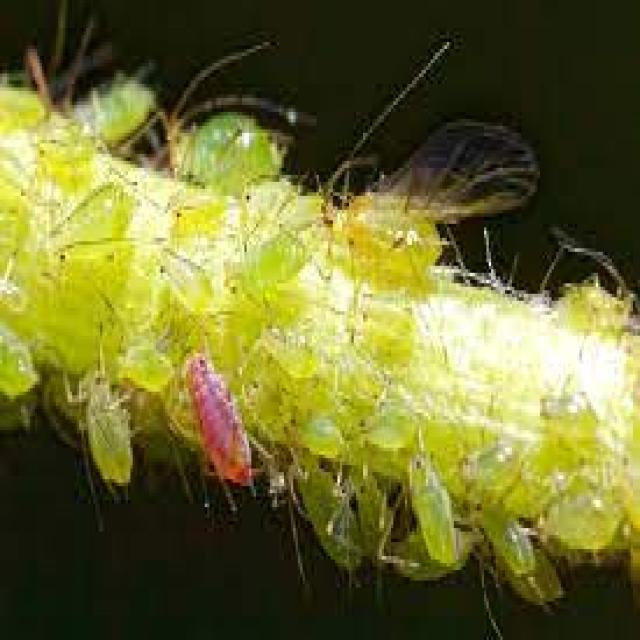Aphids: (164, 41, 314, 188), (38, 54, 169, 182), (60, 330, 143, 521), (336, 177, 456, 302), (182, 350, 267, 504), (526, 468, 626, 560), (292, 458, 364, 585), (472, 487, 548, 600), (407, 447, 462, 590), (31, 253, 133, 324), (252, 304, 322, 394), (47, 182, 144, 244), (229, 236, 316, 300), (503, 542, 571, 618), (145, 247, 216, 314), (530, 386, 604, 445), (118, 338, 176, 405), (349, 402, 422, 454), (161, 181, 227, 235), (350, 300, 421, 347), (292, 406, 344, 464), (455, 446, 525, 489)
